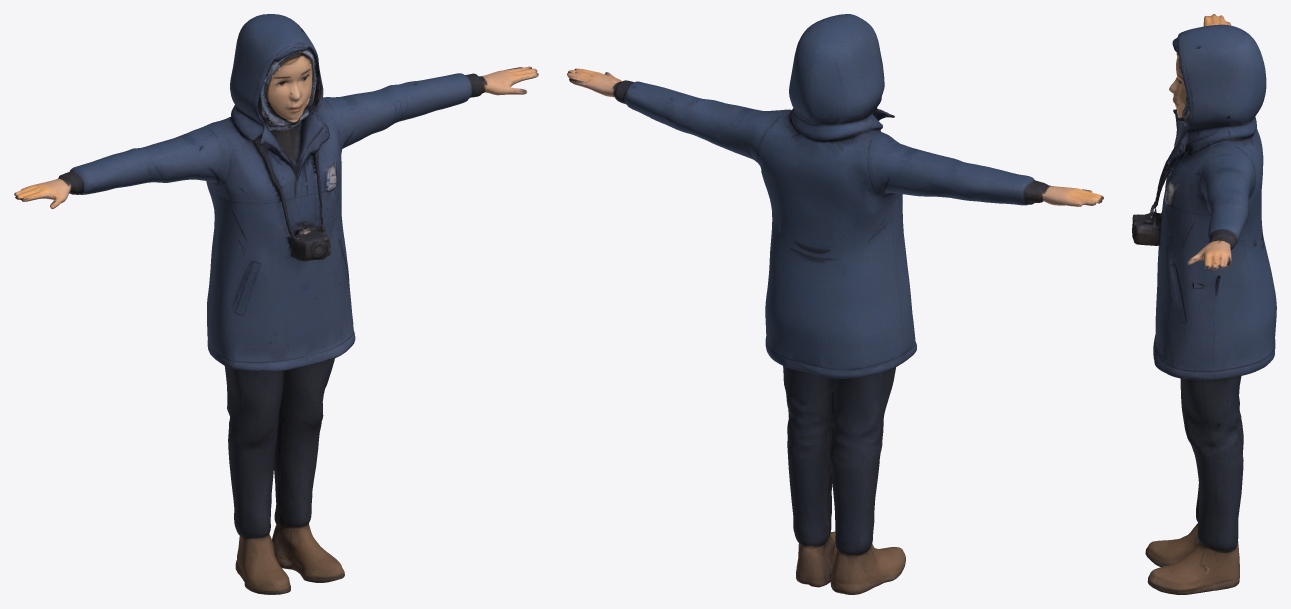
Rendered from watcher-hooded-v02.glb.
3 renders of one model, left to right at view 1: azimuth 30°, elevation 25°; view 2: azimuth 150°, elevation 25°; view 3: azimuth 270°, elevation 25°, orthographic. The views are drawn at different scales.
Bounding box in the file's own units: 1.99 × 2 × 0.4814.
1 material, 1 textured.
